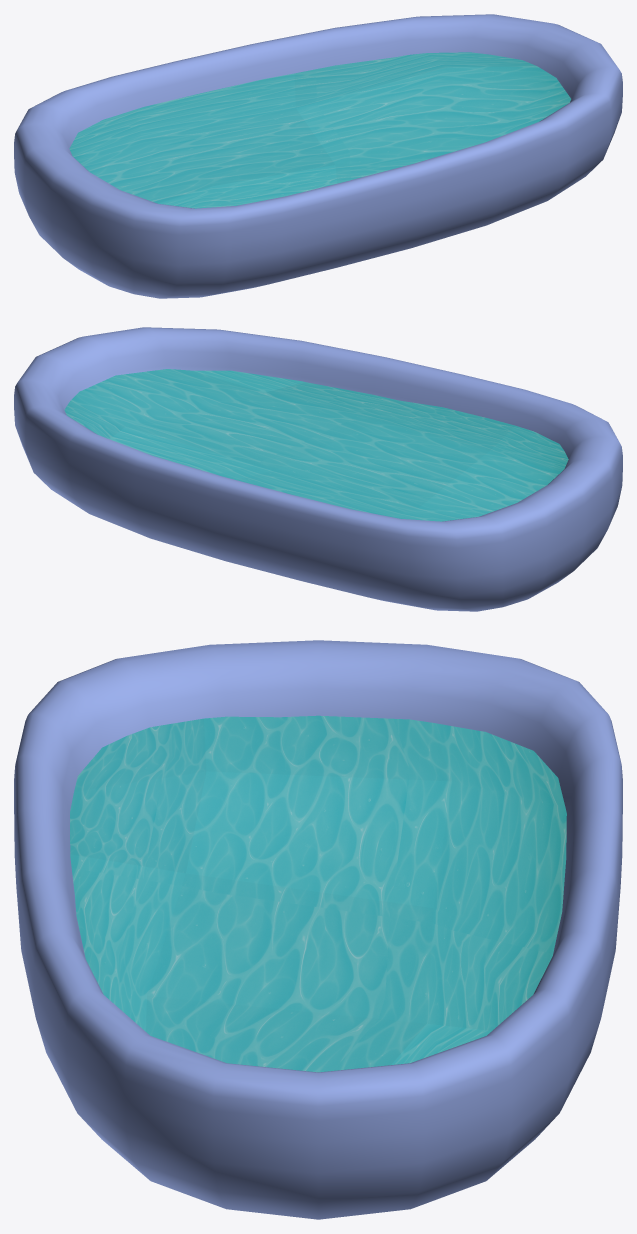
Rendered from pileta.glb.
3 renders of one model, top to bottom at view 1: azimuth 30°, elevation 25°; view 2: azimuth 150°, elevation 25°; view 3: azimuth 270°, elevation 25°, orthographic. The views are drawn at different scales.
Visible parts, largest first — view 1: pileta, pileta agua; view 2: pileta, pileta agua; view 3: pileta, pileta agua.
Boxes of the visible parts, <box> form: pileta: <box>14,14,622,298</box>; pileta agua: <box>69,52,571,208</box>; pileta: <box>14,327,622,611</box>; pileta agua: <box>64,369,568,521</box>; pileta: <box>14,640,622,1219</box>; pileta agua: <box>70,715,566,1072</box>.
Size of what is drawn, in the model's own units: 17.08 by 3.51 by 9.52.
2 materials, 1 textured.
